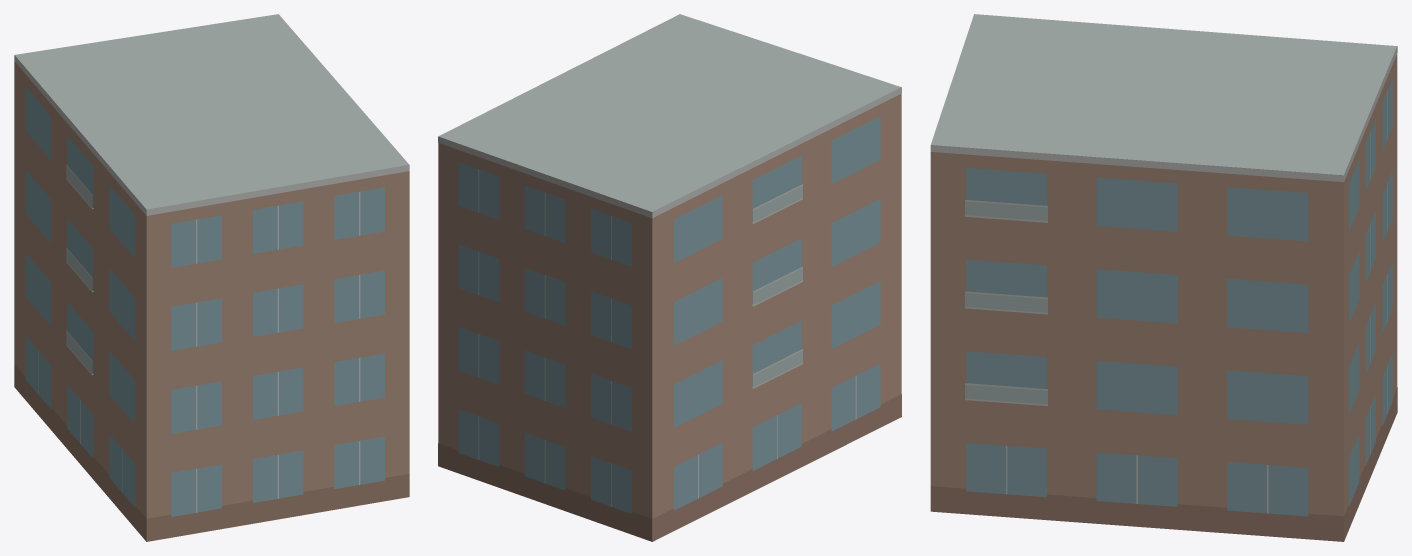
Rendered from survey-upis-32681363.glb.
The picture shows the model from 3 angles, left to right: view 1: azimuth 30°, elevation 25°; view 2: azimuth 150°, elevation 25°; view 3: azimuth 270°, elevation 25°; orthographic projection. The views are drawn at different scales.
Visible parts, largest first — view 1: survey-upis-32681363.tmp; view 2: survey-upis-32681363.tmp; view 3: survey-upis-32681363.tmp.
Boxes of the visible parts, box(x1,y1,x2,y2) form: survey-upis-32681363.tmp: box(14, 14, 409, 541); survey-upis-32681363.tmp: box(438, 14, 901, 541); survey-upis-32681363.tmp: box(930, 14, 1397, 541).
Bounding box in the file's own units: 12.28 × 13 × 15.01.
